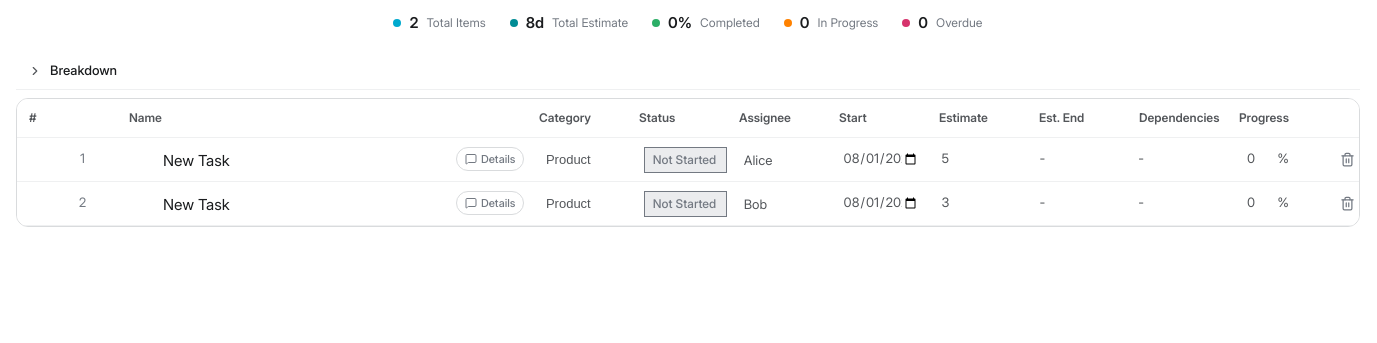
Test case: TasksView › breakdown section is collapsed by default and toggles on click
The width and height of the screenshot is (1377, 343).
Expected: the text "Breakdown" is shown, [50, 61, 117, 80]
Expected: the text "Assignee breakdown" is not shown
Step 1. Click the text "Breakdown" → coordinates (73, 70), box [28, 62, 117, 78]
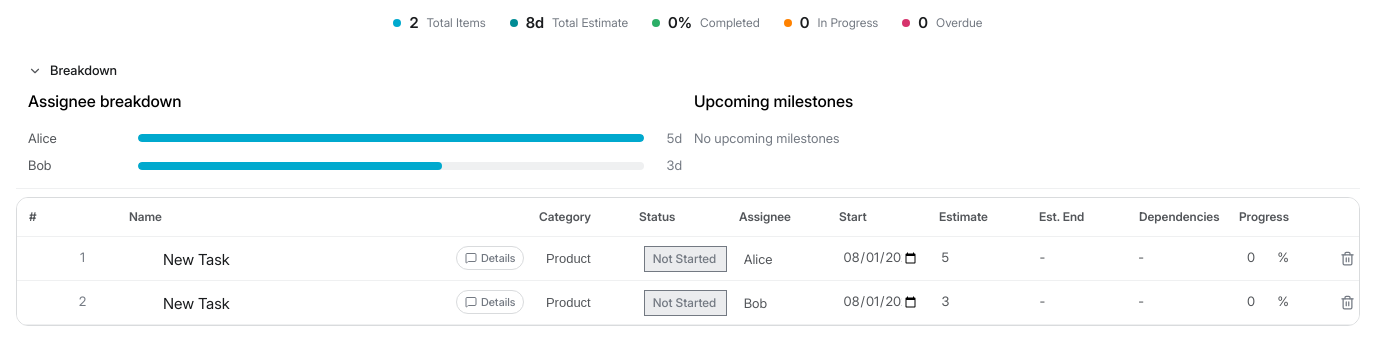
Expected: the text "Assignee breakdown" is shown, [28, 90, 182, 110]
